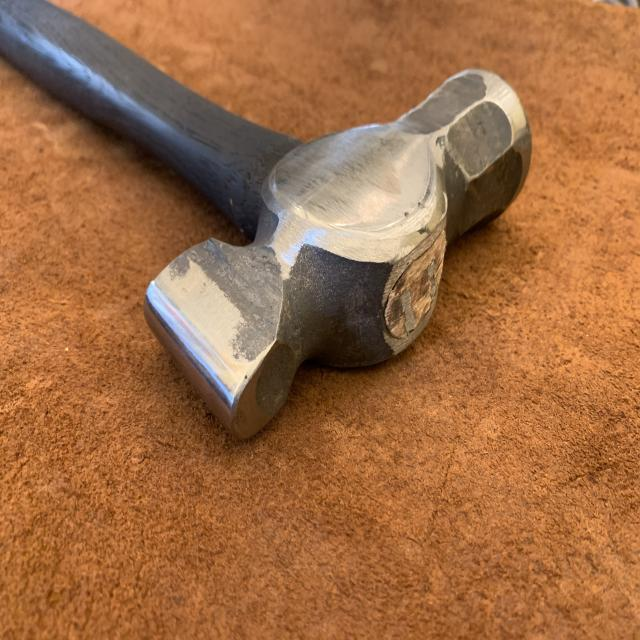hammer: (0, 0, 535, 450)
